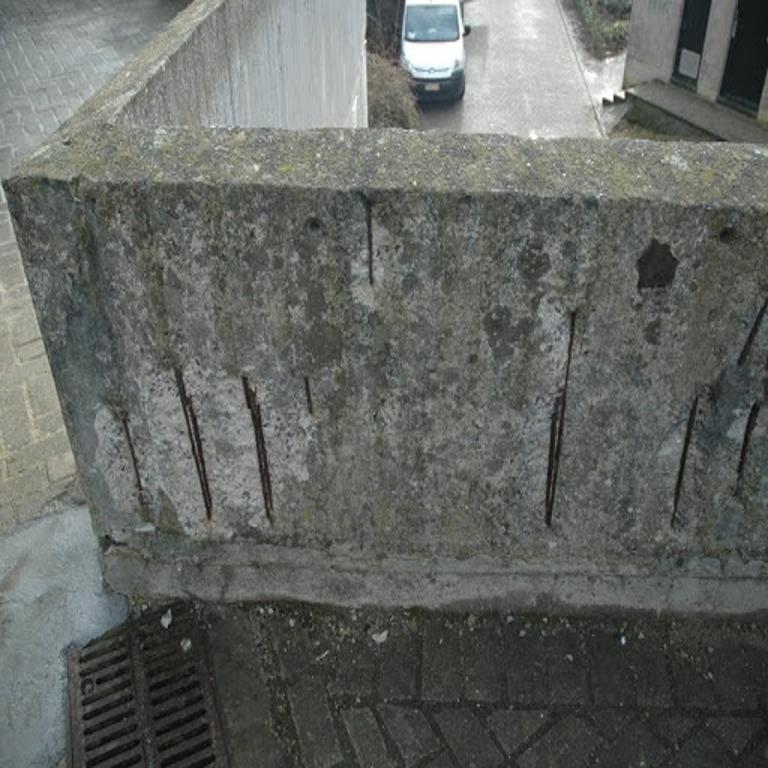exposed_rebar: (544, 312, 576, 526), (174, 368, 213, 520), (242, 376, 272, 524), (671, 396, 698, 526), (736, 400, 760, 494), (736, 297, 768, 366), (123, 418, 143, 508), (366, 200, 373, 286), (305, 376, 313, 414)
spalling: (78, 364, 322, 538), (662, 303, 767, 558), (522, 242, 586, 525), (351, 196, 390, 312)
